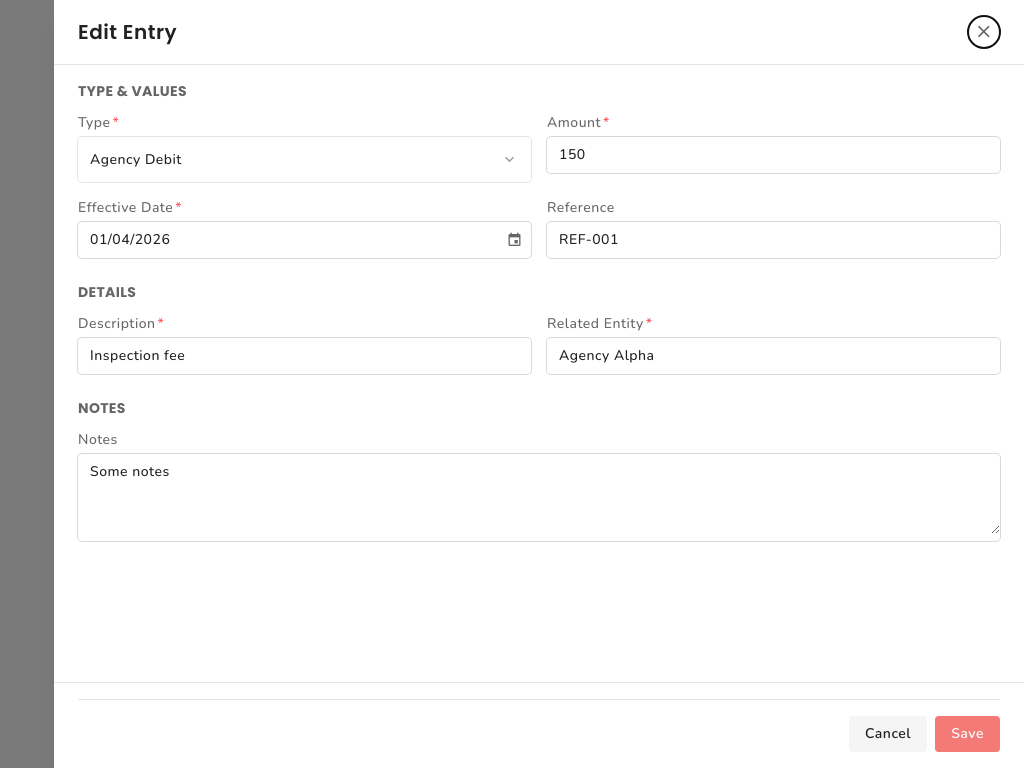
Test case: FinancialEntryFormDrawer › shows validation errors and prevents save when validation fails
The image size is (1024, 768).
Step 1. Click the button "Save" → (968, 734), box [935,716,1000,752]
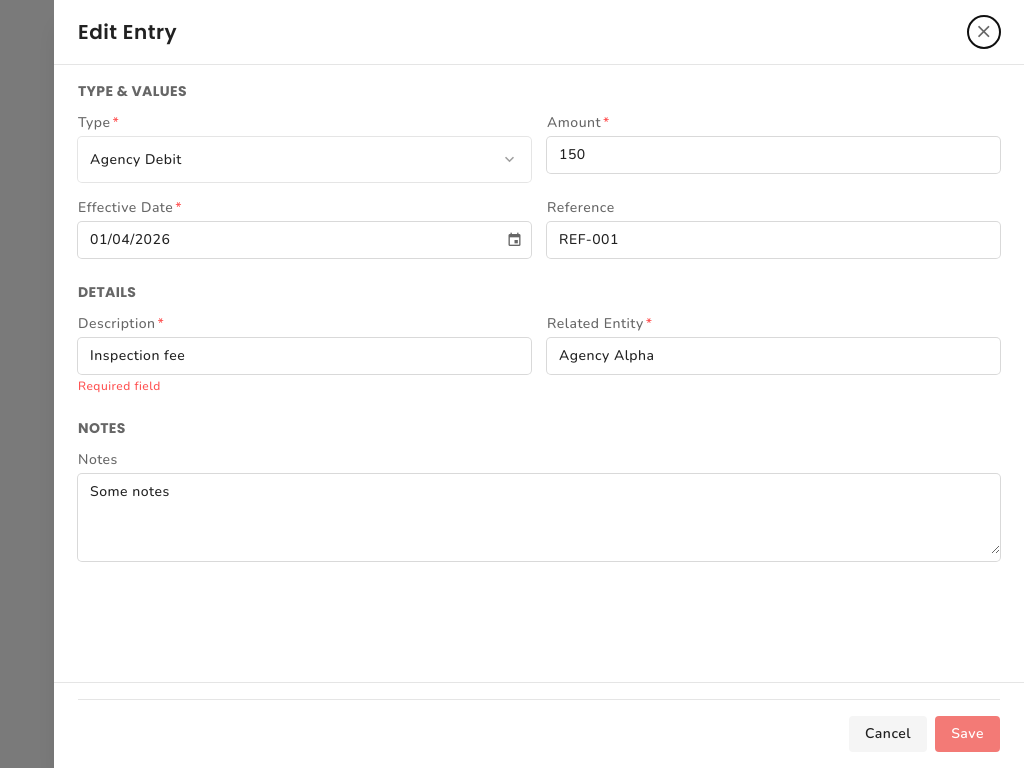
Now the text "Required field" is shown, box [78,378,161,394]
